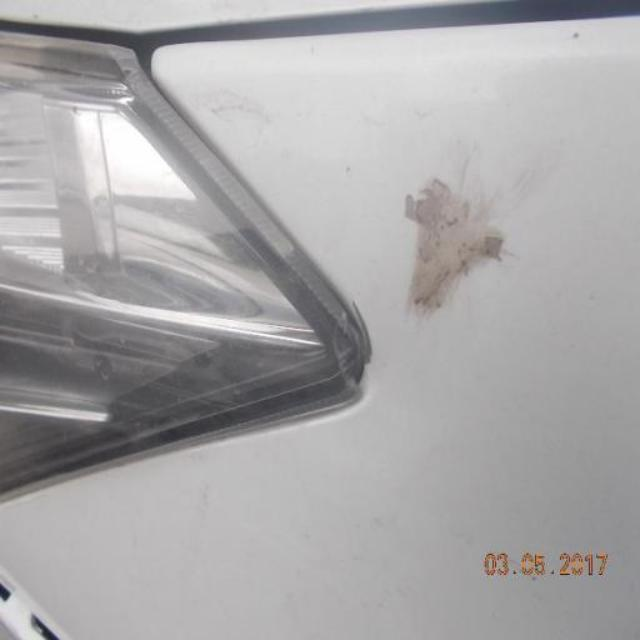rub: (408, 169, 504, 318)
